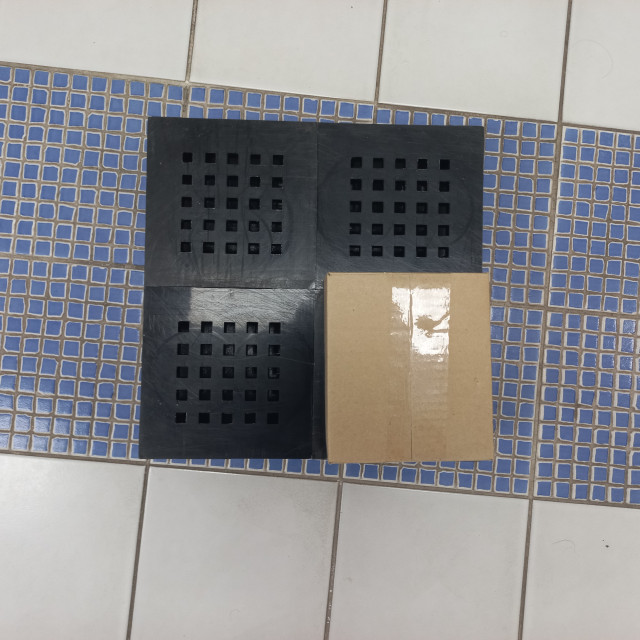box: (323, 268, 495, 462)
pallet: (138, 118, 491, 459)
